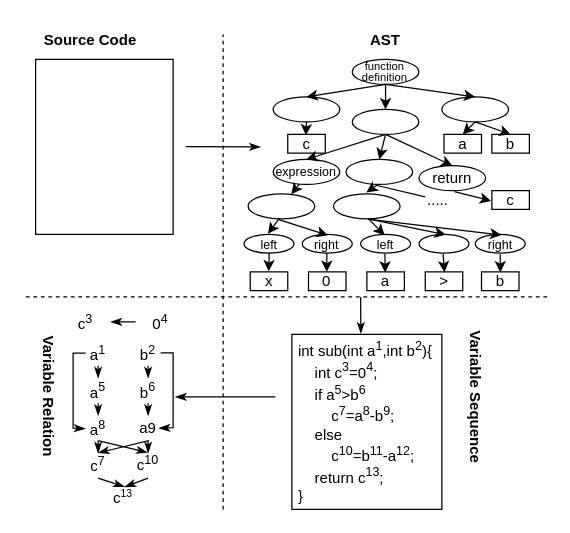
This 570x533 diagram has some shape labels left out. The box of each missing label's shape, as (x1, y1, x2, y2) in pixels:
assignment: (247, 192, 315, 219)
body: (351, 108, 419, 134)
condition: (332, 192, 400, 219)
If statement: (345, 158, 413, 184)
int sub(int a,int b){ int c=0; if a>b c=a-b; else c=b-a; return c; }: (34, 58, 173, 234)
name: (272, 96, 340, 122)
operator: (418, 233, 469, 253)
parameters: (441, 96, 508, 122)
